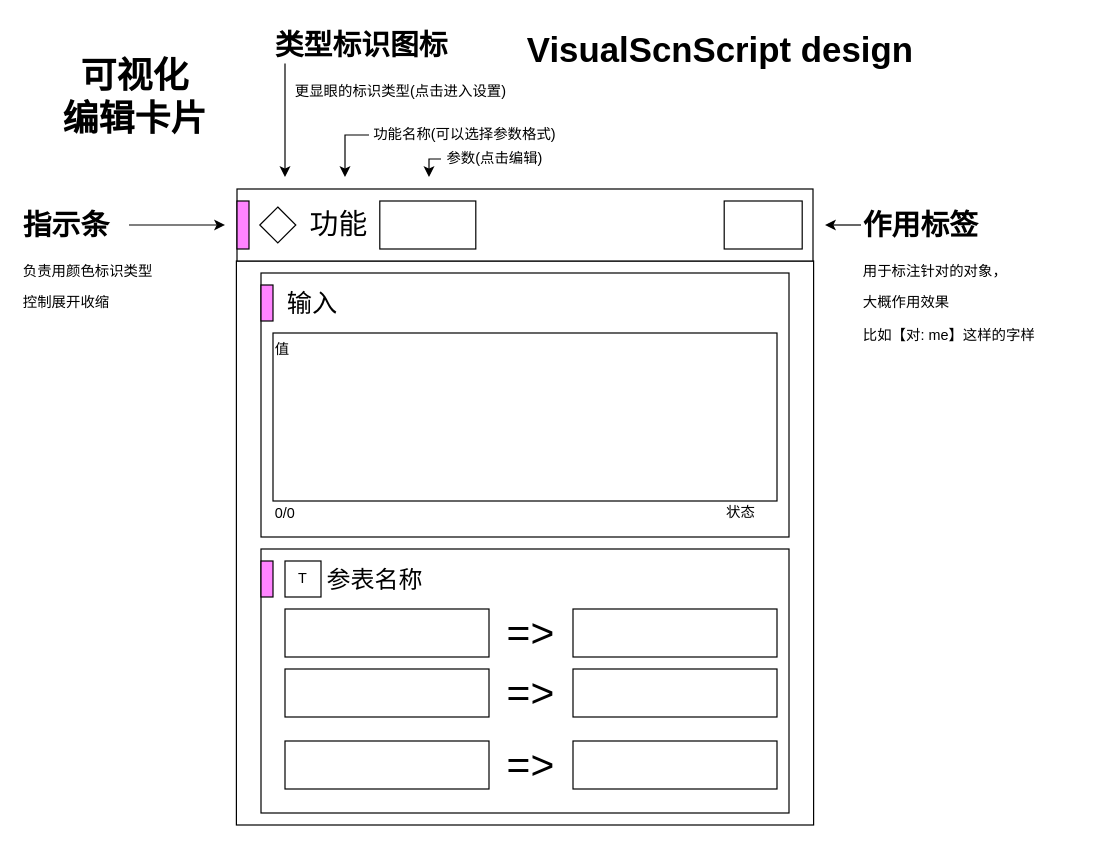
The diagram is 1098 pixels wide and 846 high, and some of its shapes have lost their labels. Here are the shapes that lost their labels. From the top down, the box of each, then its label:
(379, 200, 476, 249): 主参
(723, 200, 802, 249): 作用标签
